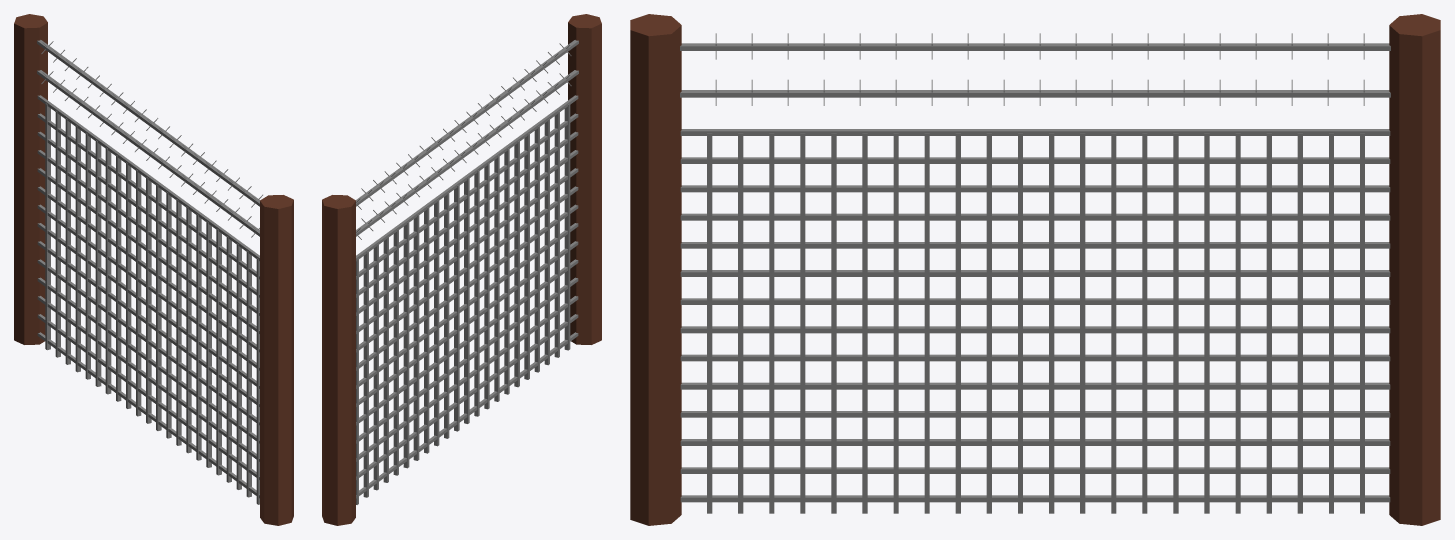
File: BarbedWireFence.fbx
3 renders of one model, left to right at view 1: azimuth 30°, elevation 25°; view 2: azimuth 150°, elevation 25°; view 3: azimuth 270°, elevation 25°, orthographic. The views are drawn at different scales.
Visible parts, largest first — view 1: Fence; view 2: Fence; view 3: Fence.
Boxes of the visible parts, x1,y1,x2,y2 form: Fence: (14,14,293,525); Fence: (322,14,601,525); Fence: (630,14,1440,525).
Bounding box in the file's own units: 19.5 × 200 × 300.
